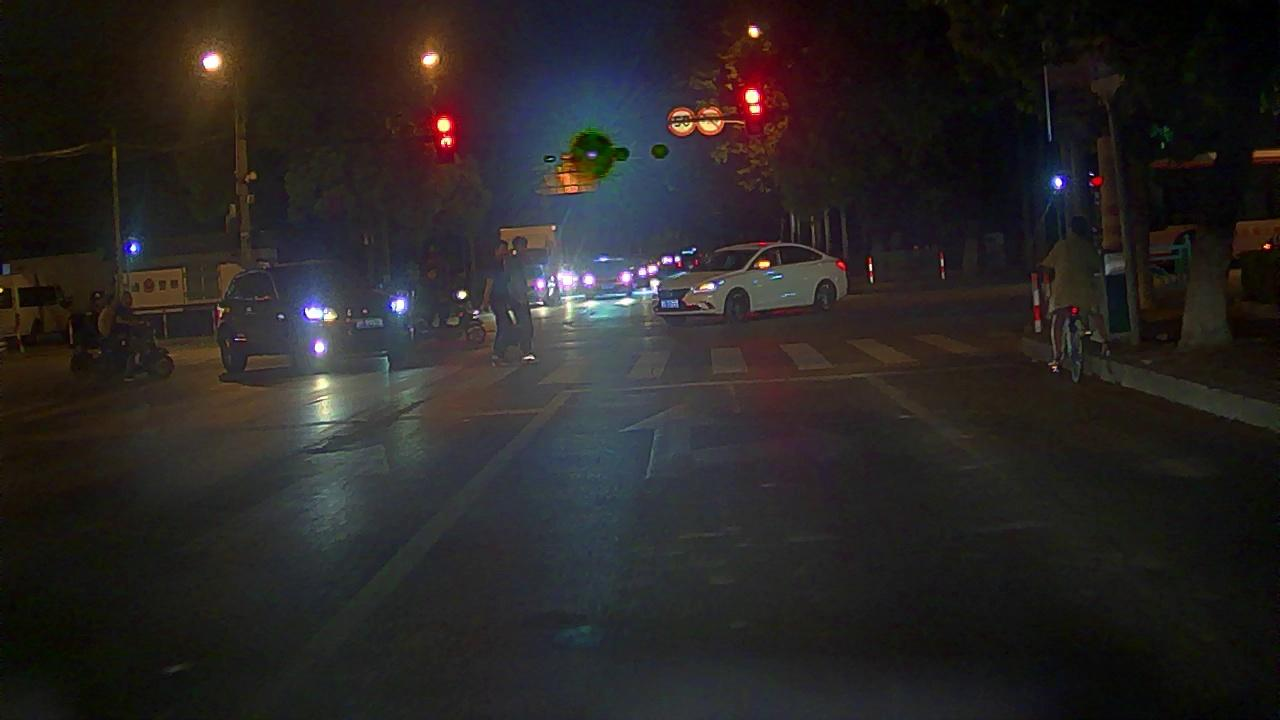traffic_light: (743, 86, 764, 136), (435, 115, 456, 164)
